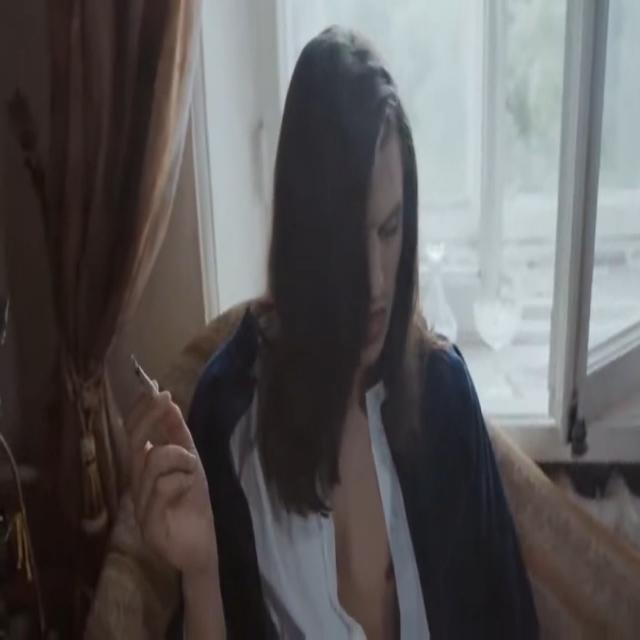Курение: (126, 348, 163, 401)
